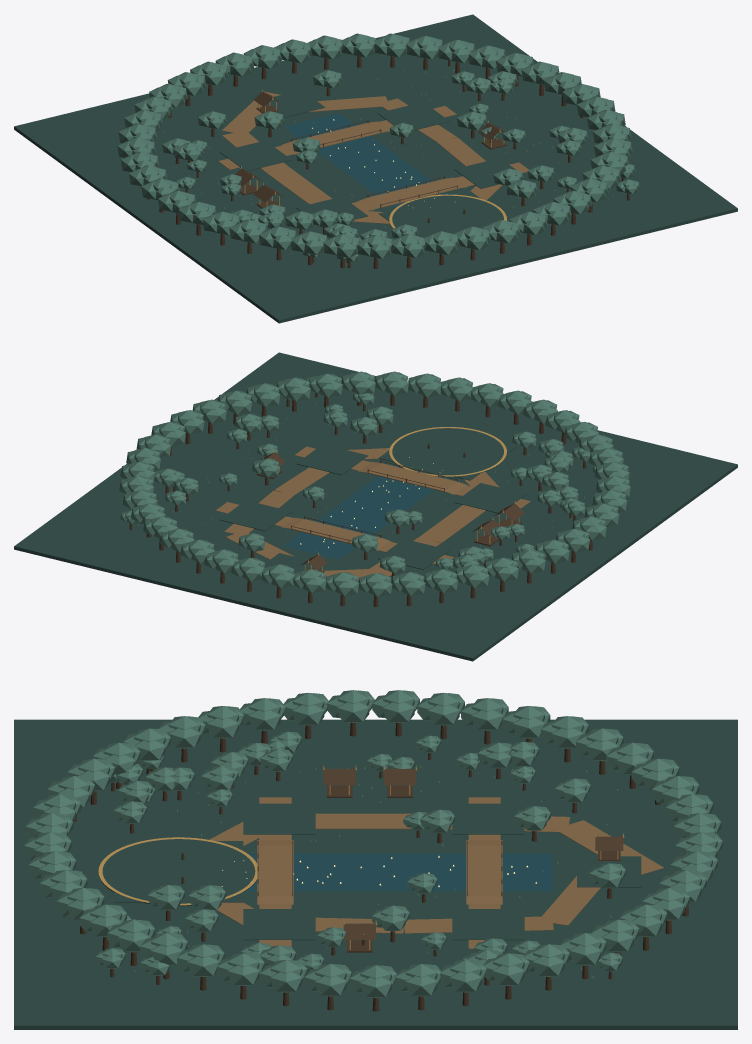
The model's file is rebirth-ferry.glb.
3 views of the same model, one above another, from view 1: azimuth 30°, elevation 25°; view 2: azimuth 150°, elevation 25°; view 3: azimuth 270°, elevation 25° (orthographic). The views are drawn at different scales.
Visible parts, largest first — view 1: Ground, Water surface | river, Spirit arena paved, Courtyard | combat clearing, Courtyard | combat clearing.001, Bridge deck.001, Streets | quest route.002, Courtyard | combat clearing.003, Courtyard | combat clearing.004, Bridge deck, Streets | quest route.005, Courtyard | combat clearing.002 (+4 smaller); view 2: Ground, Water surface | river, Spirit arena paved, Courtyard | combat clearing.001, Courtyard | combat clearing.003, Courtyard | combat clearing.002, Courtyard | combat clearing, Bridge deck.001, Streets | quest route.002, Bridge deck, Streets | quest route.007, Streets | quest route.006 (+2 smaller); view 3: Ground, Water surface | river, Spirit arena paved, Courtyard | combat clearing.002, Courtyard | combat clearing.003, Courtyard | combat clearing.001, Courtyard | combat clearing, Bridge deck, Bridge deck.001, Streets | quest route.002, Courtyard | combat clearing.004, Streets | quest route.005 (+23 smaller).
Boxes of the visible parts, x1,y1,x2,y2 form: Ground: [14, 14, 737, 323]; Water surface | river: [283, 113, 449, 208]; Spirit arena paved: [390, 195, 503, 237]; Courtyard | combat clearing: [219, 140, 291, 171]; Courtyard | combat clearing.001: [377, 102, 449, 130]; Bridge deck.001: [368, 179, 457, 207]; Streets | quest route.002: [266, 167, 332, 204]; Courtyard | combat clearing.003: [454, 158, 526, 188]; Courtyard | combat clearing.004: [266, 90, 325, 117]; Bridge deck: [292, 123, 380, 147]; Streets | quest route.005: [308, 96, 389, 112]; Courtyard | combat clearing.002: [296, 196, 367, 227]; Ground: [14, 352, 737, 661]; Water surface | river: [283, 464, 451, 559]; Spirit arena paved: [392, 428, 506, 477]; Courtyard | combat clearing.001: [219, 500, 291, 531]; Courtyard | combat clearing.003: [296, 444, 368, 475]; Courtyard | combat clearing.002: [454, 483, 526, 513]; Courtyard | combat clearing: [377, 539, 449, 569]; Bridge deck.001: [368, 463, 456, 491]; Streets | quest route.002: [419, 505, 485, 542]; Bridge deck: [291, 519, 380, 543]; Streets | quest route.007: [274, 467, 329, 495]; Streets | quest route.006: [224, 490, 293, 535]; Ground: [14, 719, 737, 1029]; Water surface | river: [246, 853, 552, 891]; Spirit arena paved: [98, 839, 257, 906]; Courtyard | combat clearing.002: [243, 803, 315, 834]; Courtyard | combat clearing.003: [243, 909, 315, 940]; Courtyard | combat clearing.001: [452, 909, 524, 940]; Courtyard | combat clearing: [452, 803, 524, 834]; Bridge deck: [466, 845, 502, 896]; Bridge deck.001: [257, 845, 293, 896]; Streets | quest route.002: [315, 813, 411, 829]; Courtyard | combat clearing.004: [577, 856, 641, 887]; Streets | quest route.005: [542, 876, 600, 925].
Size of the model in its own units: 180 by 13.56 by 180.
